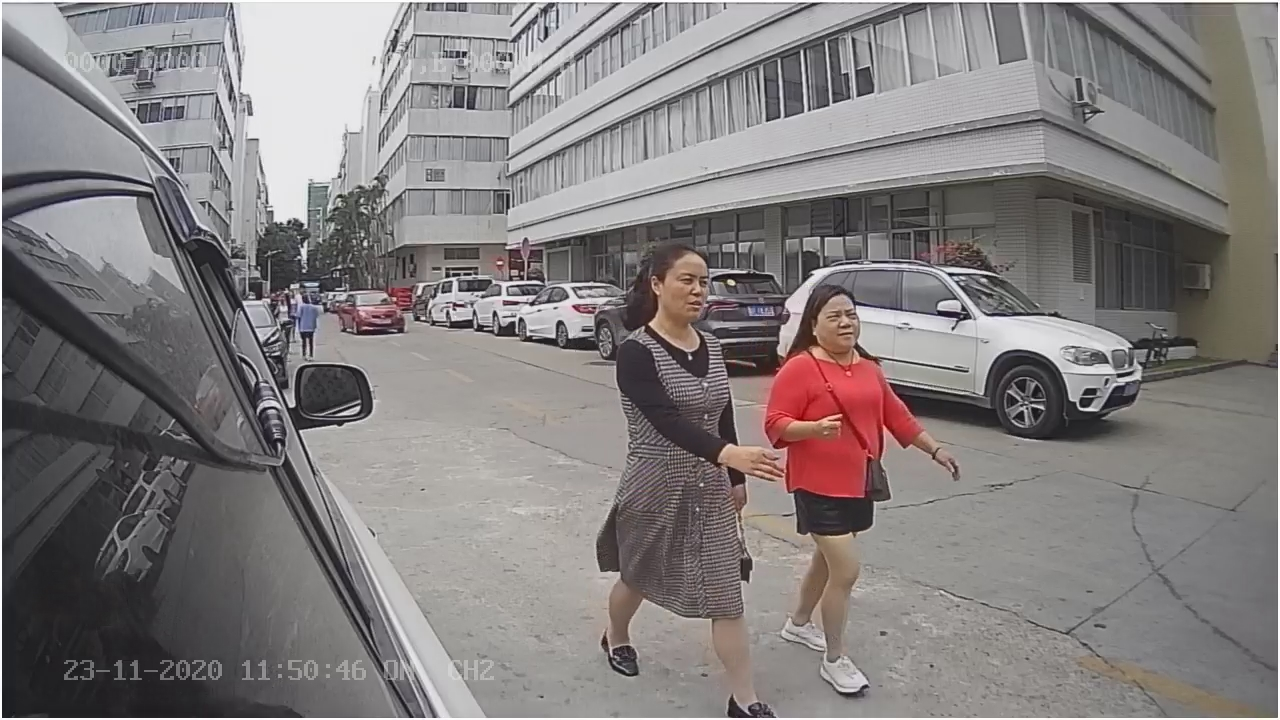person: (602, 243, 781, 717)
